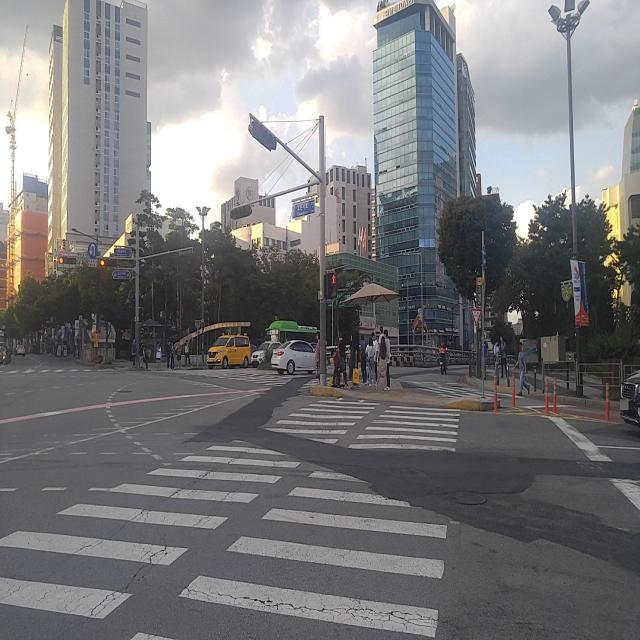빨간불: (324, 272, 337, 298)
횡단보도: (0, 407, 468, 640)
